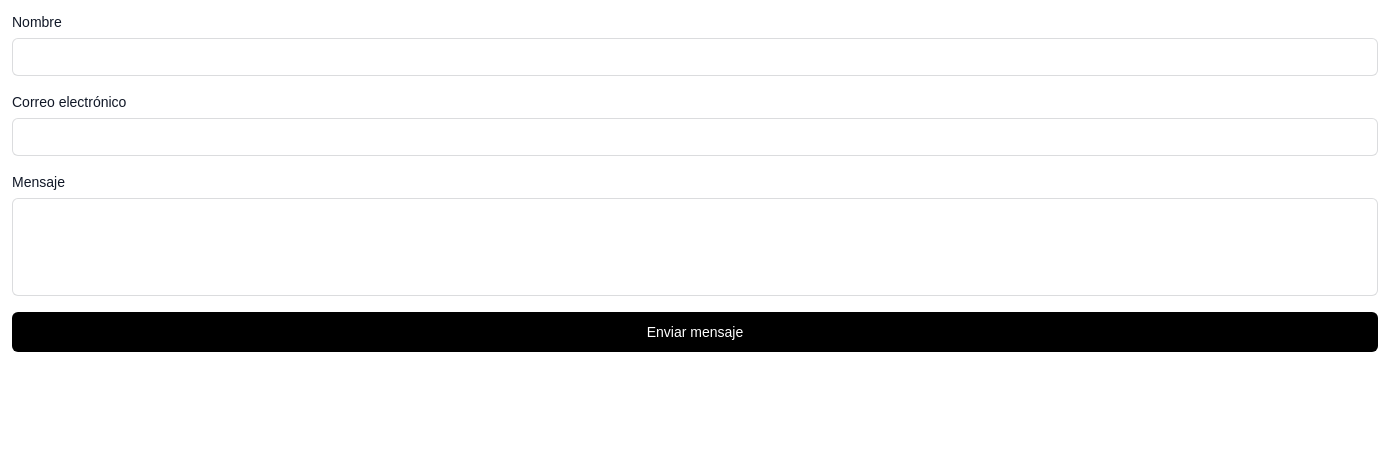
Test case: ContactFormSection › includes the fallbackEmail in the error message when provided
Type "Jane Doe" into the field below "Nombre" at (695, 57), box [12, 38, 1378, 76]
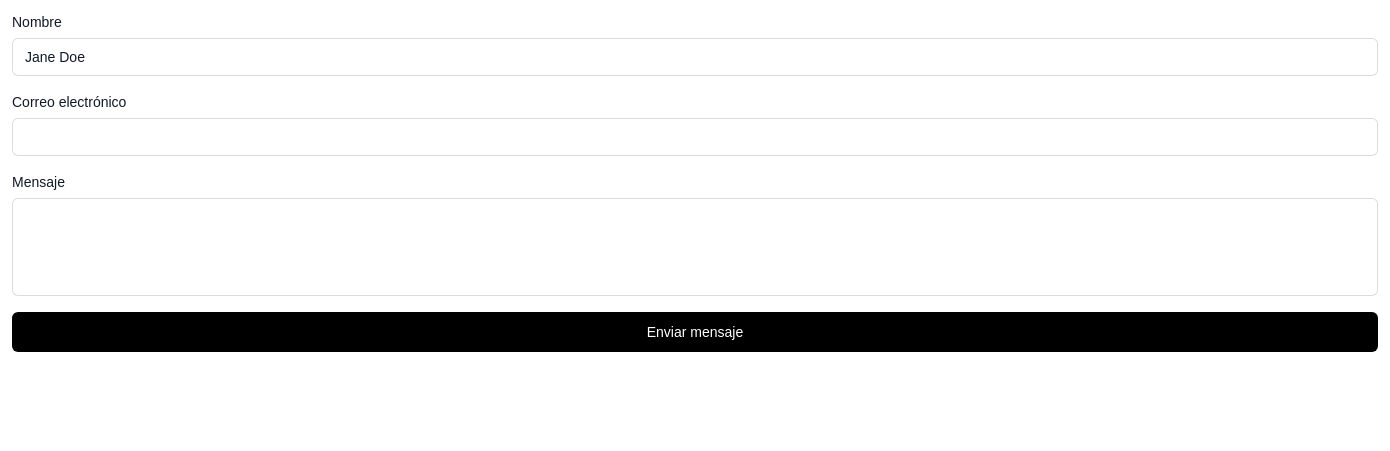
Type "jane@example.com" into the field below "Correo electrónico" at (695, 137), box [12, 118, 1378, 156]
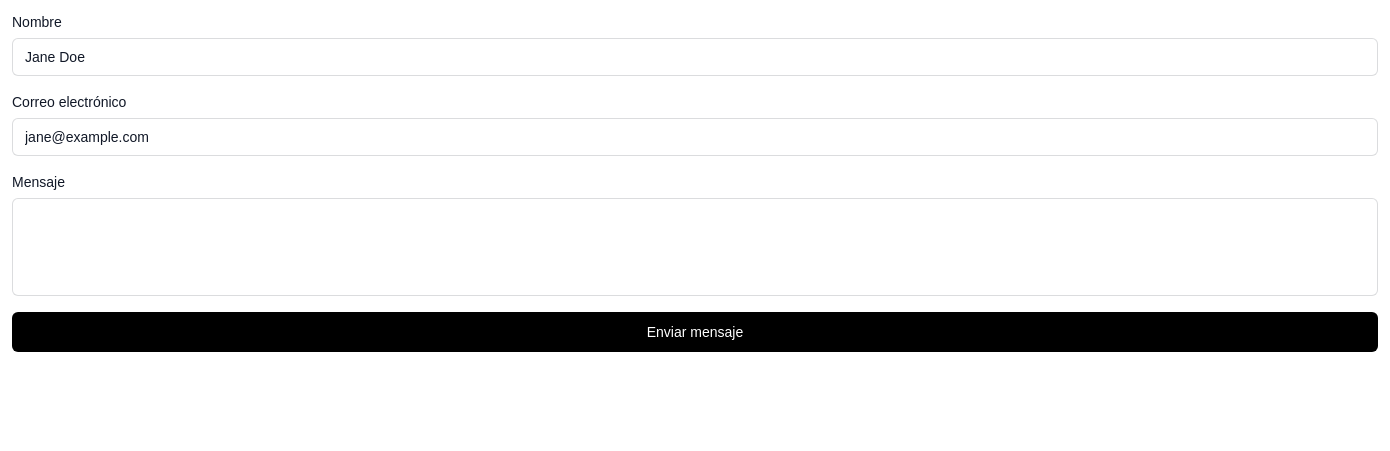
Type "Hello there" into the text box at (695, 247), box [12, 198, 1378, 296]
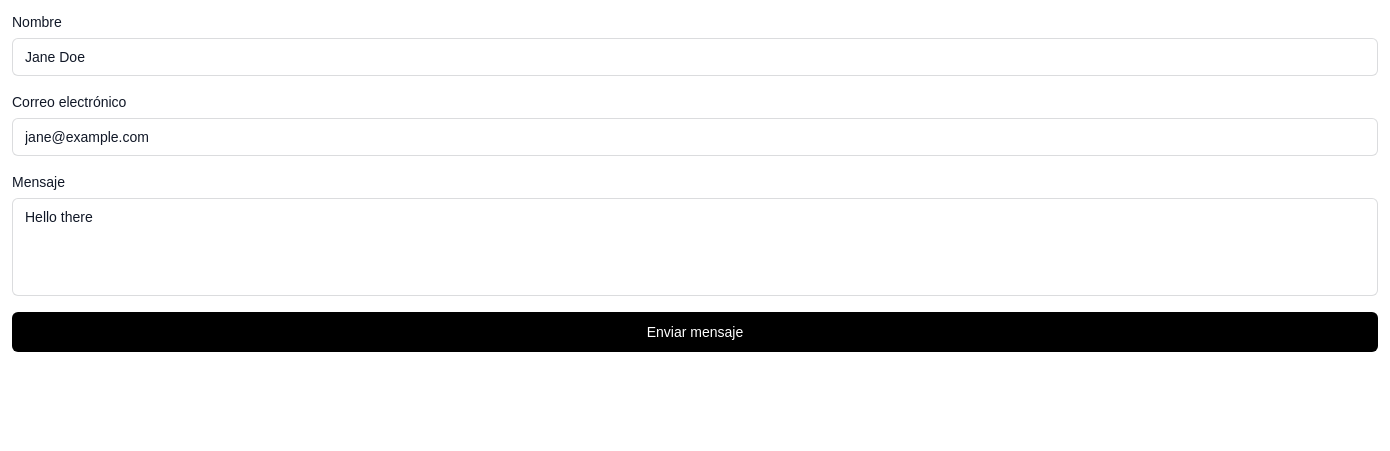
Submit the form
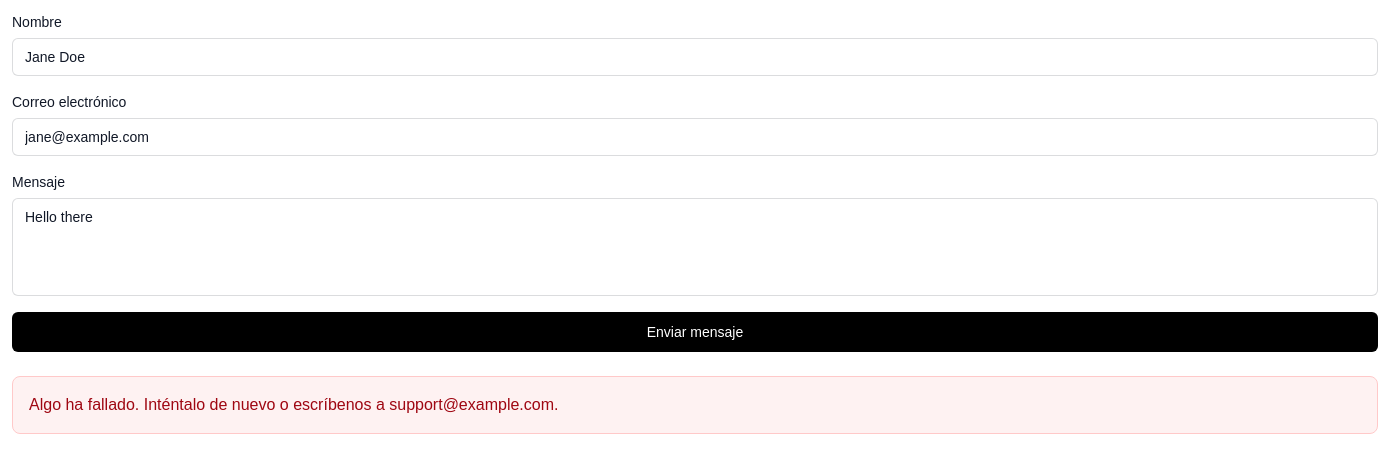
Now the text "support@example.com" is shown, box [29, 396, 558, 413]
